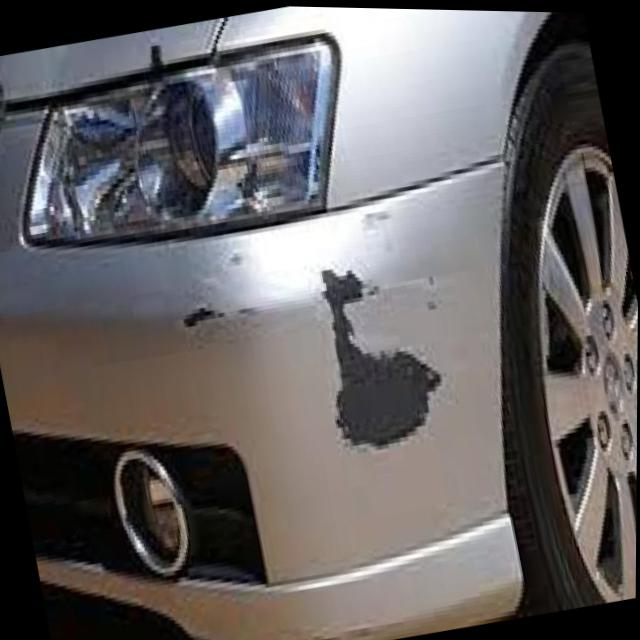Scratch: (298, 234, 464, 474)
